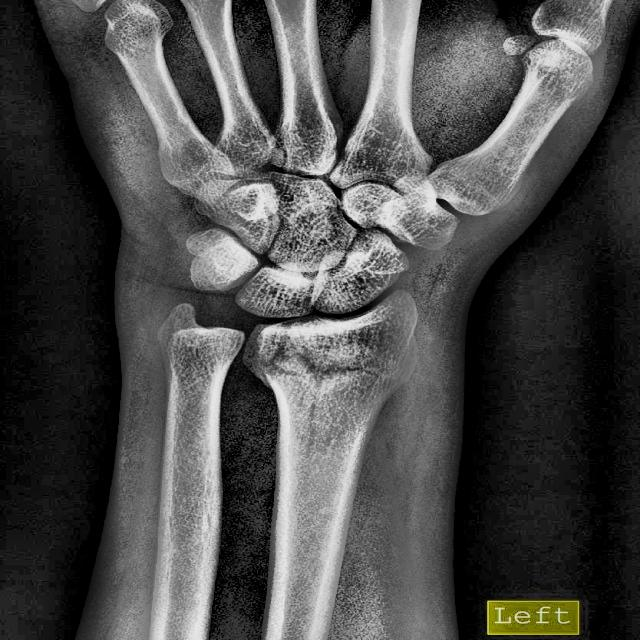line: (247, 348, 406, 393)
